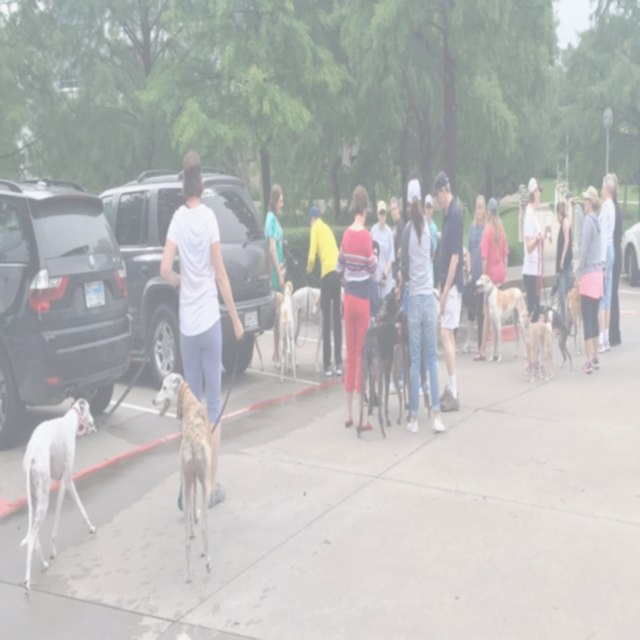pessoa: (159, 148, 245, 513), (334, 183, 380, 432), (400, 177, 444, 434), (388, 195, 431, 398), (430, 169, 464, 411), (305, 204, 344, 378), (471, 196, 510, 362), (522, 176, 552, 378), (574, 184, 604, 376), (588, 172, 616, 352), (461, 195, 487, 353), (264, 184, 286, 368), (369, 198, 396, 310), (555, 200, 574, 339), (608, 172, 623, 348), (389, 194, 406, 287), (422, 193, 438, 289), (368, 240, 384, 332)
